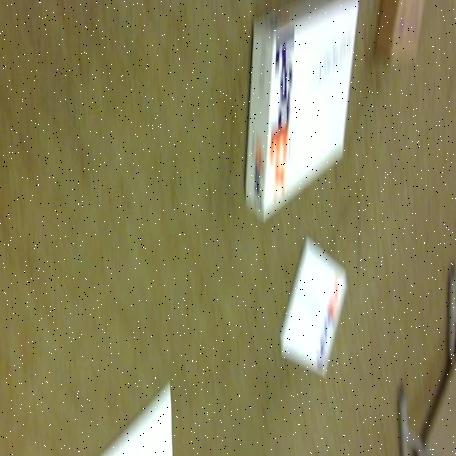Amazon: (235, 0, 358, 218), (268, 254, 352, 377)
